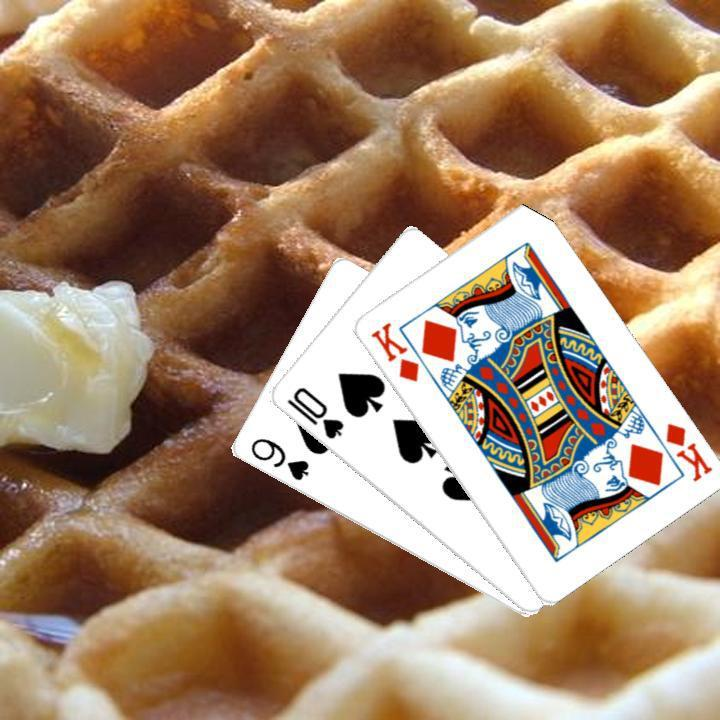10: (281, 382, 346, 442)
9: (245, 433, 311, 483)
K: (366, 317, 421, 385), (660, 418, 714, 484)
